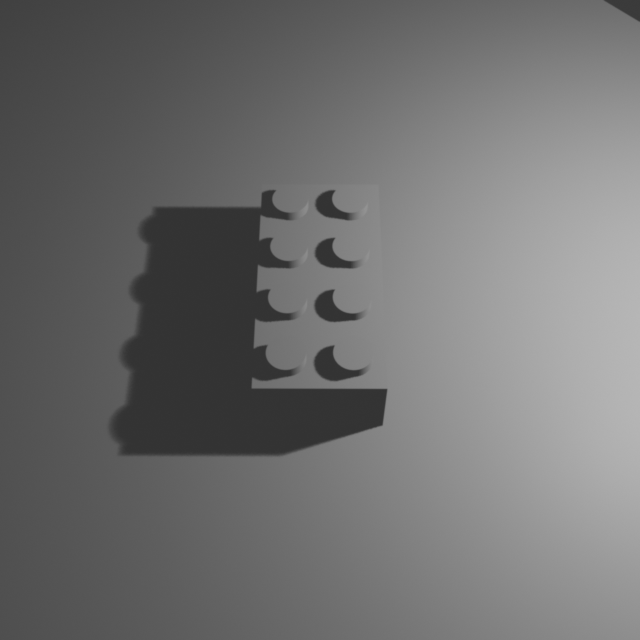lego_2x4: (251, 176, 388, 426)
